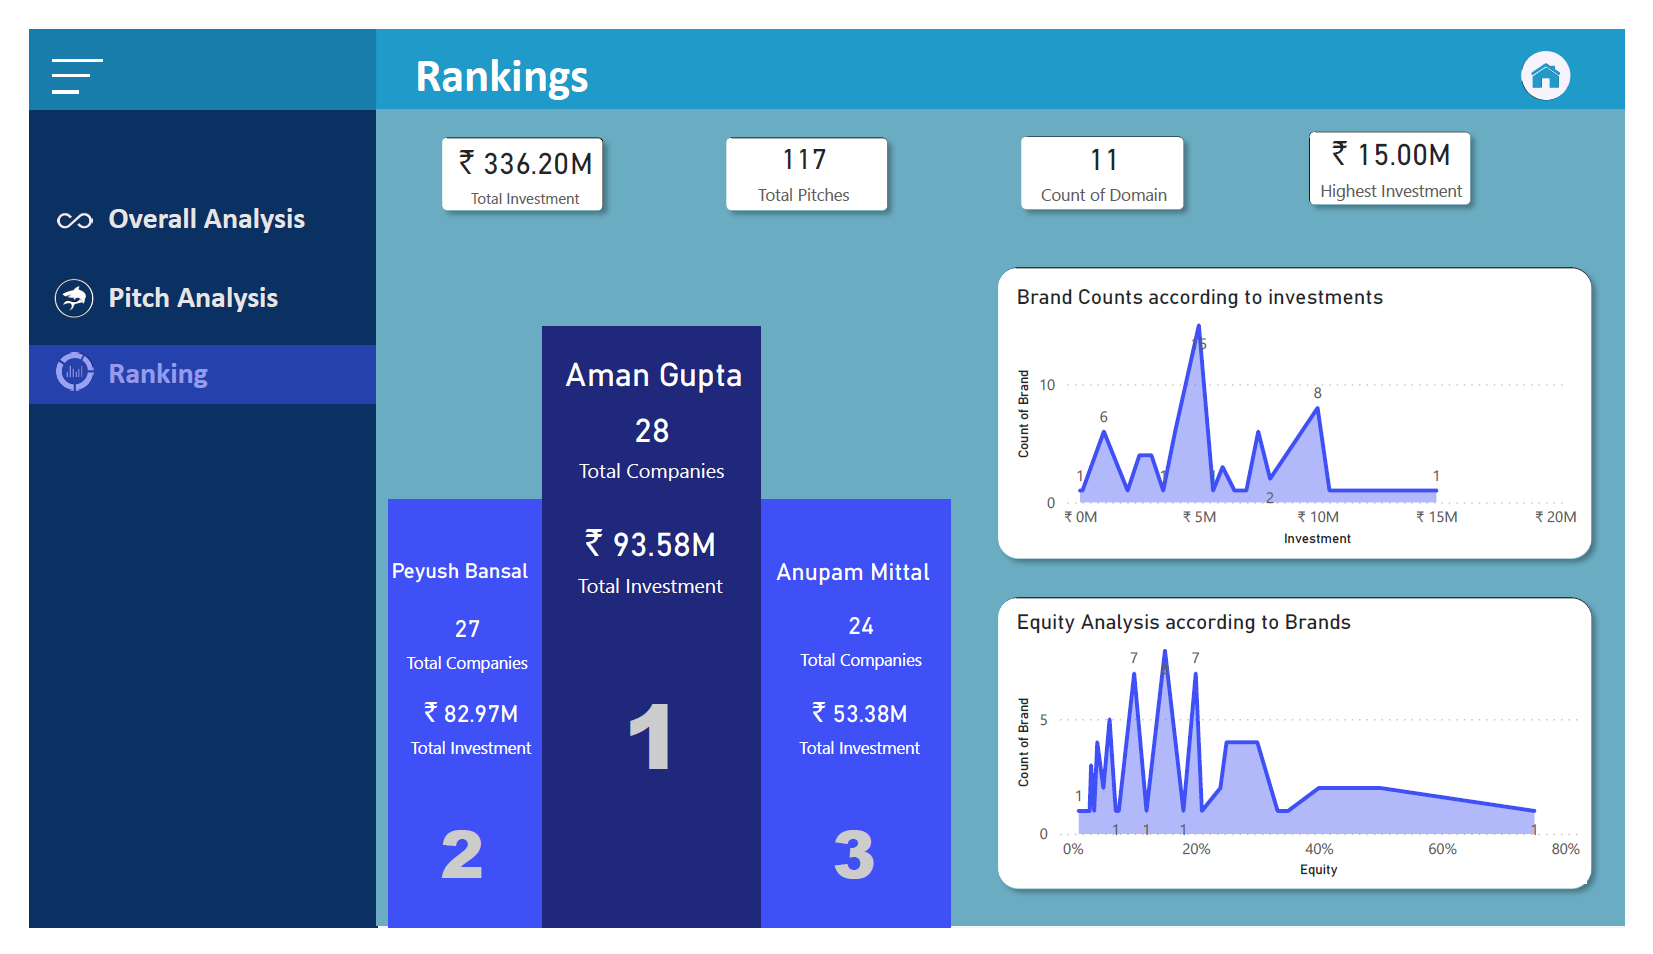

This screenshot's page, from the dashboard's own definition file:
{"tool":"powerbi","page":{"name":"Rankings","canvas":[1280,720],"ordinal":1},"visuals":[{"type":"ribbonChart","title":"Domain wise Analysis","fields":{"Category":["Domain.Domain Name"],"Y":["Sum(Domain.No. of pitches)"]},"box":[288.2,149.5,572.9,511.4],"z":0},{"type":"donutChart","title":"Shark''s Investment Analysis","fields":{"Category":["Sharks.Name of sharks"],"Y":["Sum(Sharks.Total Companies  (Numbers))"]},"box":[682.6,177.2,575.5,512.3],"z":1000},{"type":"actionButton","box":[0,38.5,57.7,52.2],"z":2000},{"type":"actionButton","box":[0,111.2,57.7,52.2],"z":3000},{"type":"actionButton","box":[0,188.2,57.7,52.2],"z":4000},{"type":"actionButton","box":[0,265.1,57.7,52.2],"z":5000},{"type":"card","fields":{"Values":["Sum(Domain.No. of pitches)"]},"box":[303.5,390,129.1,86.5],"z":6000},{"type":"shape","box":[992.3,71.8,146.2,75.6],"z":7000},{"type":"card","fields":{"Values":["Sum(Sharks.Total Investment  (Numbers))"]},"box":[891.3,377.7,157.9,111.2],"z":8000},{"type":"textbox","box":[102.8,154.2,1177.8,137.5],"z":9000},{"type":"shape","box":[0,0,278.6,720],"z":10000},{"type":"shape","box":[278.3,0,1002.2,64.4],"z":11000},{"type":"shape","box":[278.8,0,1001.5,63.6],"z":12000},{"type":"shape","box":[0,0,278.6,63.9],"z":13000},{"type":"shape","box":[990.9,72.7,147,75.8],"z":14000},{"type":"shape","box":[18.1,0,39.8,49.4],"z":15000},{"type":"shape","box":[18.2,12,30.2,49.5],"z":16000},{"type":"shape","box":[18.1,25.3,20.5,49.4],"z":17000},{"type":"textbox","box":[57.5,131.1,188.7,44.3],"z":18000},{"type":"textbox","box":[57.5,194.3,188.7,44.3],"z":19000},{"type":"shape","box":[989.7,76.9,147.4,75.6],"z":20000},{"type":"textbox","box":[58.5,254.7,188.7,44.3],"z":21000},{"type":"image","box":[16.9,131.5,38.6,43.4],"z":22000},{"type":"image","box":[16,249.1,39.6,50],"z":23000},{"type":"shape","box":[0,253.4,277.3,46.6],"z":24000},{"type":"image","box":[13.3,190.6,44.6,49.4],"z":25000},{"type":"shape","box":[277.8,63.9,1002.8,655.6],"z":26000},{"type":"shape","box":[768.2,181.8,493.9,251.5],"z":27000},{"type":"textbox","box":[304.2,8.3,308.3,63.9],"z":28000},{"type":"image","box":[1186.1,0,70.8,62.5],"z":29000},{"type":"shape","box":[787.2,76.9,147.4,75.6],"z":30000},{"type":"card","fields":{"Values":["Count(Pitches.Domain)"]},"box":[747.4,62.8,229.5,97.4],"z":31000},{"type":"areaChart","title":"Brand Counts according to investments","fields":{"Category":["Pitches.Investment"],"Y":["CountNonNull(Pitches.Brand)"]},"box":[787.2,203.8,459,215.4],"z":32000},{"type":"shape","box":[768.2,447,493.9,251.5],"z":33000},{"type":"areaChart","title":"Equity Analysis according to Brands","fields":{"Y":["CountNonNull(Pitches.Brand)"],"Category":["Pitches.Equity"]},"box":[787.2,465.4,461.5,219.2],"z":34000},{"type":"simpleImageEBC4593F96F1425FB3D84C5BF02B5075","fields":{"imageURL":["Sharks Updated.Column8"]},"box":[448.5,133.3,100,89.4],"z":35000},{"type":"simpleImageEBC4593F96F1425FB3D84C5BF02B5075","fields":{"imageURL":["Sharks Updated.Column8"]},"box":[303,277.3,98.5,89.4],"z":36000},{"type":"shape","box":[550,78.2,147.4,75.6],"z":37000},{"type":"shape","box":[287.9,377.3,451.5,342.4],"z":38000},{"type":"shape","box":[410.6,237.9,175.8,481.8],"z":39000},{"type":"simpleImageEBC4593F96F1425FB3D84C5BF02B5075","fields":{"imageURL":["Sharks Updated.Column8"]},"box":[613.6,277.3,97,83.3],"z":40000},{"type":"card","fields":{"Values":["Min(Sharks.Total Companies)"]},"box":[418.2,293.9,162.1,72.7],"z":41000},{"type":"card","fields":{"Values":["Min(Sharks.Total Companies)"]},"box":[269.7,453,162.1,72.7],"z":42000},{"type":"card","fields":{"Values":["Min(Sharks.Total Companies)"]},"box":[586.4,453,162.1,68.2],"z":43000},{"type":"card","fields":{"Values":["Sum(Sharks.Total Investment  (Numbers))"]},"box":[416.7,386.4,162.1,72.7],"z":44000},{"type":"card","fields":{"Values":["Sum(Sharks.Total Investment  (Numbers))"]},"box":[272.7,521.2,162.1,72.7],"z":45000},{"type":"card","fields":{"Values":["Sum(Sharks.Total Investment  (Numbers))"]},"box":[584.8,521.2,162.1,72.7],"z":46000},{"type":"card","fields":{"Values":["Min(Sharks.Name of sharks)"]},"box":[419.7,239.4,162.1,72.7],"z":47000},{"type":"card","fields":{"Values":["Min(Sharks.Name of sharks)"]},"box":[263.6,398.5,162.1,72.7],"z":48000},{"type":"card","fields":{"Values":["Min(Sharks.Name of sharks)"]},"box":[574.2,410.6,172.7,48.5],"z":49000},{"type":"textbox","box":[471.2,509.1,63.6,122.7],"z":50000},{"type":"textbox","box":[324.2,616.7,57.6,87.9],"z":51000},{"type":"textbox","box":[639.4,616.7,57.6,87.9],"z":52000},{"type":"shape","box":[321.8,78.2,147.4,75.6],"z":53000},{"type":"shape","box":[1017.9,73.1,147.4,75.6],"z":54000},{"type":"card","fields":{"Values":["Max(Pitches.Investment)"]},"box":[970.5,53.8,243.6,107.7],"z":55000},{"type":"card","fields":{"Values":["CountNonNull(Pitches.Brand)"]},"box":[509,64.1,224.4,94.9],"z":56000},{"type":"card","fields":{"Values":["Sum(Pitches.Investment)"]},"box":[285.9,73.1,223.1,82.1],"z":57000}]}

Visuals, with their boxes in screenshot pixels (x1, y1, x2, y2), scaled from the page's 1280x720 canvas onto the 1653x954 screenshot:
"Domain wise Analysis" ribbonChart: [372,198,1112,876]
"Shark''s Investment Analysis" donutChart: [882,235,1625,914]
actionButton: [0,51,75,120]
actionButton: [0,147,75,217]
actionButton: [0,249,75,319]
actionButton: [0,351,75,420]
card - Sum(Domain.No. of pitches): [392,517,559,631]
shape: [1281,95,1470,195]
card - Sum(Sharks.Total Investment  (Numbers)): [1151,500,1355,648]
textbox: [133,204,1652,387]
shape: [0,0,360,953]
shape: [359,0,1652,85]
shape: [360,0,1652,84]
shape: [0,0,360,85]
shape: [1280,96,1469,197]
shape: [23,0,75,65]
shape: [24,16,63,81]
shape: [23,34,50,99]
textbox: [74,174,318,232]
textbox: [74,257,318,316]
shape: [1278,102,1468,202]
textbox: [76,337,319,396]
image: [22,174,72,232]
image: [21,330,72,396]
shape: [0,336,358,398]
image: [17,253,75,318]
shape: [359,85,1652,953]
shape: [992,241,1630,574]
textbox: [393,11,791,96]
image: [1532,0,1623,83]
shape: [1017,102,1207,202]
card - Count(Pitches.Domain): [965,83,1262,212]
"Brand Counts according to investments" areaChart: [1017,270,1609,555]
shape: [992,592,1630,926]
"Equity Analysis according to Brands" areaChart: [1017,617,1613,907]
simpleImageEBC4593F96F1425FB3D84C5BF02B5075 - Sharks Updated.Column8: [579,177,708,295]
simpleImageEBC4593F96F1425FB3D84C5BF02B5075 - Sharks Updated.Column8: [391,367,518,486]
shape: [710,104,901,204]
shape: [372,500,955,953]
shape: [530,315,757,953]
simpleImageEBC4593F96F1425FB3D84C5BF02B5075 - Sharks Updated.Column8: [792,367,918,478]
card - Min(Sharks.Total Companies): [540,389,749,486]
card - Min(Sharks.Total Companies): [348,600,558,697]
card - Min(Sharks.Total Companies): [757,600,967,691]
card - Sum(Sharks.Total Investment  (Numbers)): [538,512,747,608]
card - Sum(Sharks.Total Investment  (Numbers)): [352,691,562,787]
card - Sum(Sharks.Total Investment  (Numbers)): [755,691,965,787]
card - Min(Sharks.Name of sharks): [542,317,751,414]
card - Min(Sharks.Name of sharks): [340,528,550,624]
card - Min(Sharks.Name of sharks): [742,544,965,608]
textbox: [609,675,691,837]
textbox: [419,817,493,934]
textbox: [826,817,900,934]
shape: [416,104,606,204]
shape: [1315,97,1505,197]
card - Max(Pitches.Investment): [1253,71,1568,214]
card - CountNonNull(Pitches.Brand): [657,85,947,211]
card - Sum(Pitches.Investment): [369,97,657,206]
